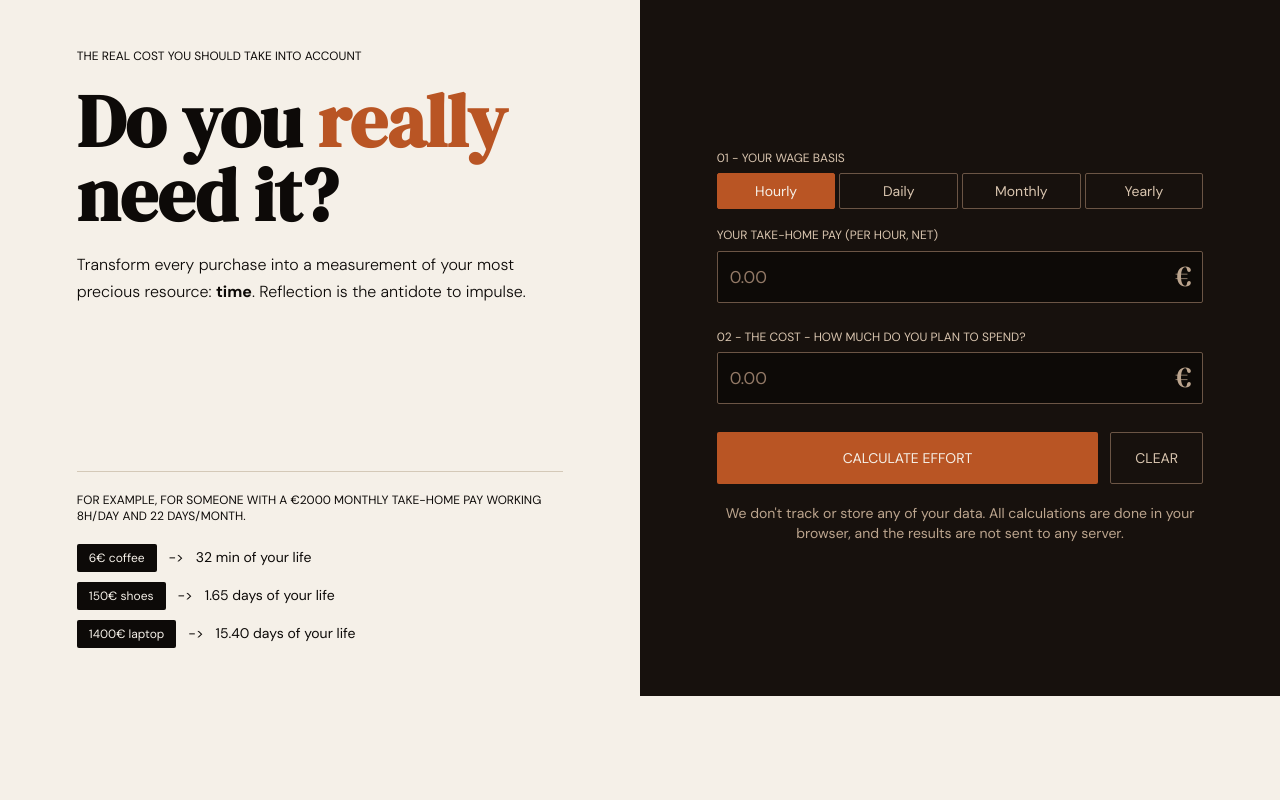
CalculatorPageContainer › shows schedule validation messages for monthly income
Click the button "Monthly". click: (1021,191)
box: [962, 173, 1081, 209]
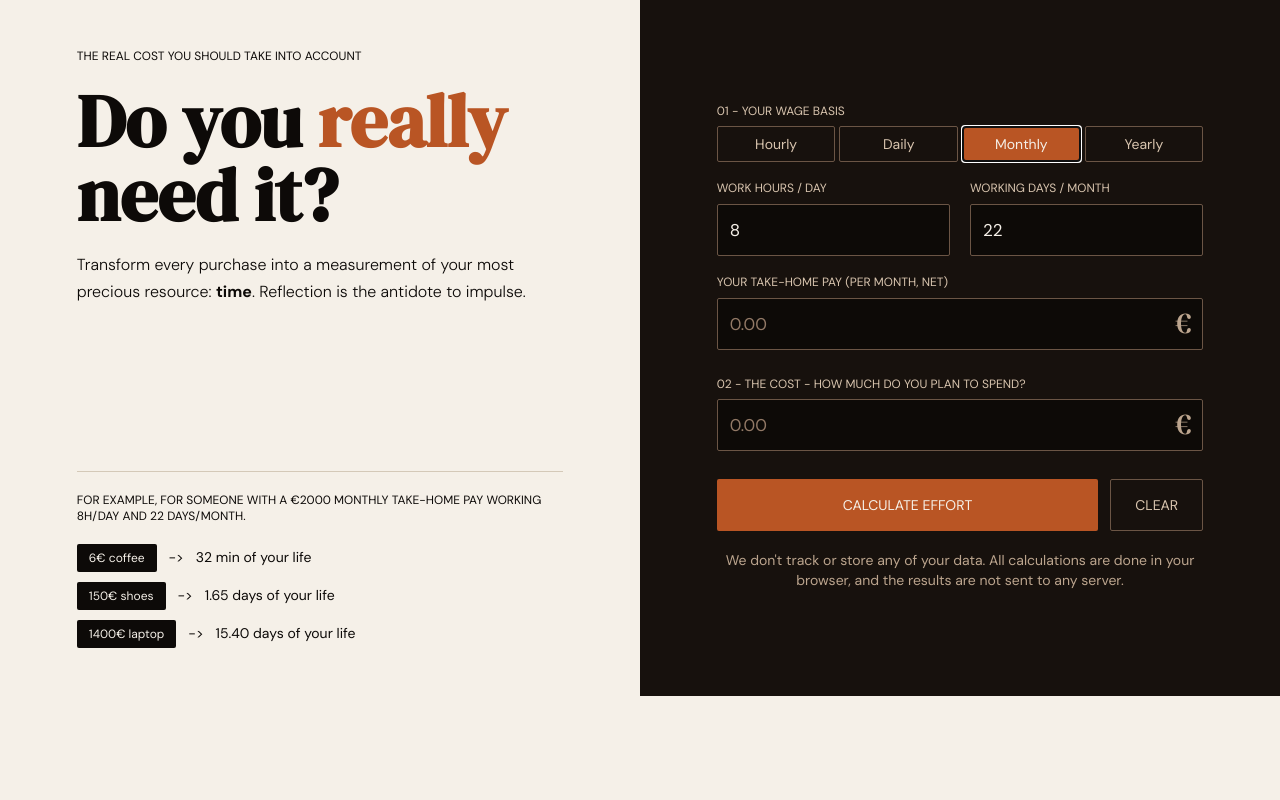
Clear the number field labelled "Work hours / day". click: (833,230)
box: [717, 204, 950, 256]
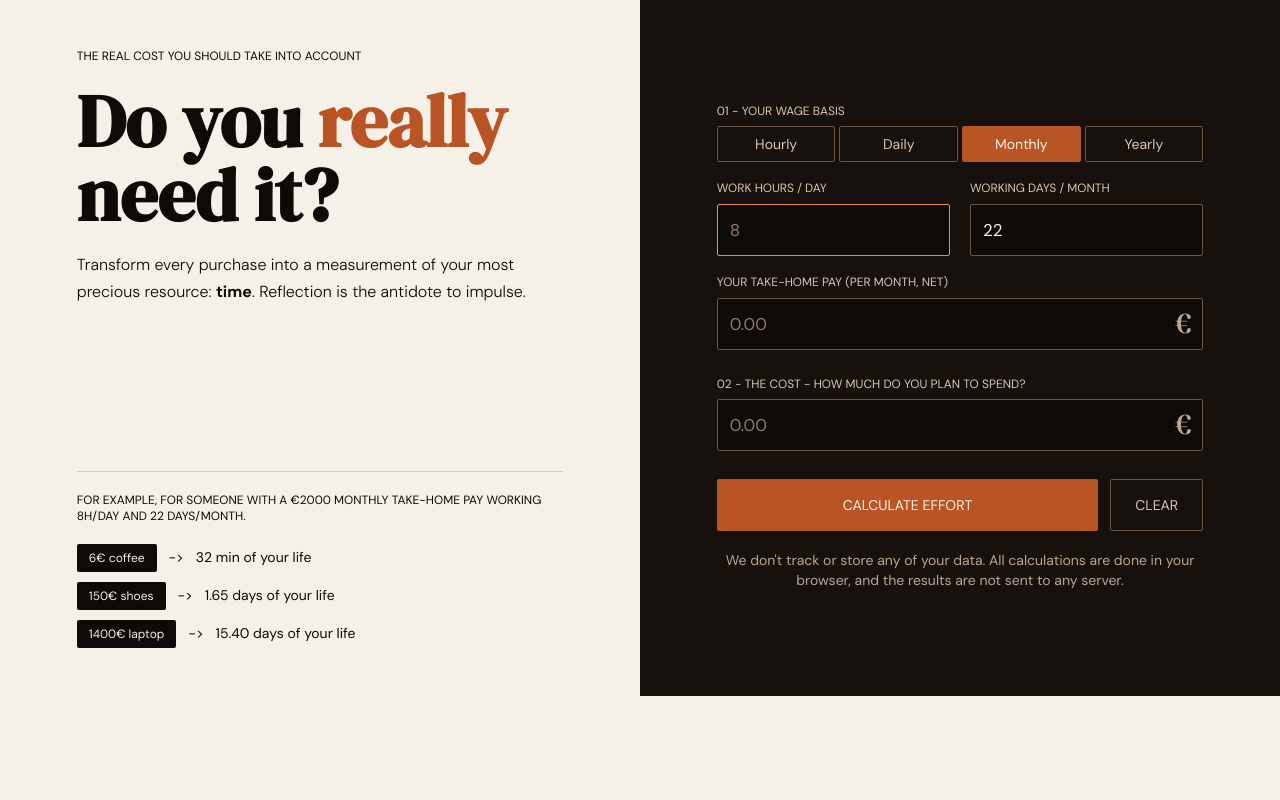
Clear the number field labelled "Working days / month". click: (1087,230)
box: [970, 204, 1203, 256]
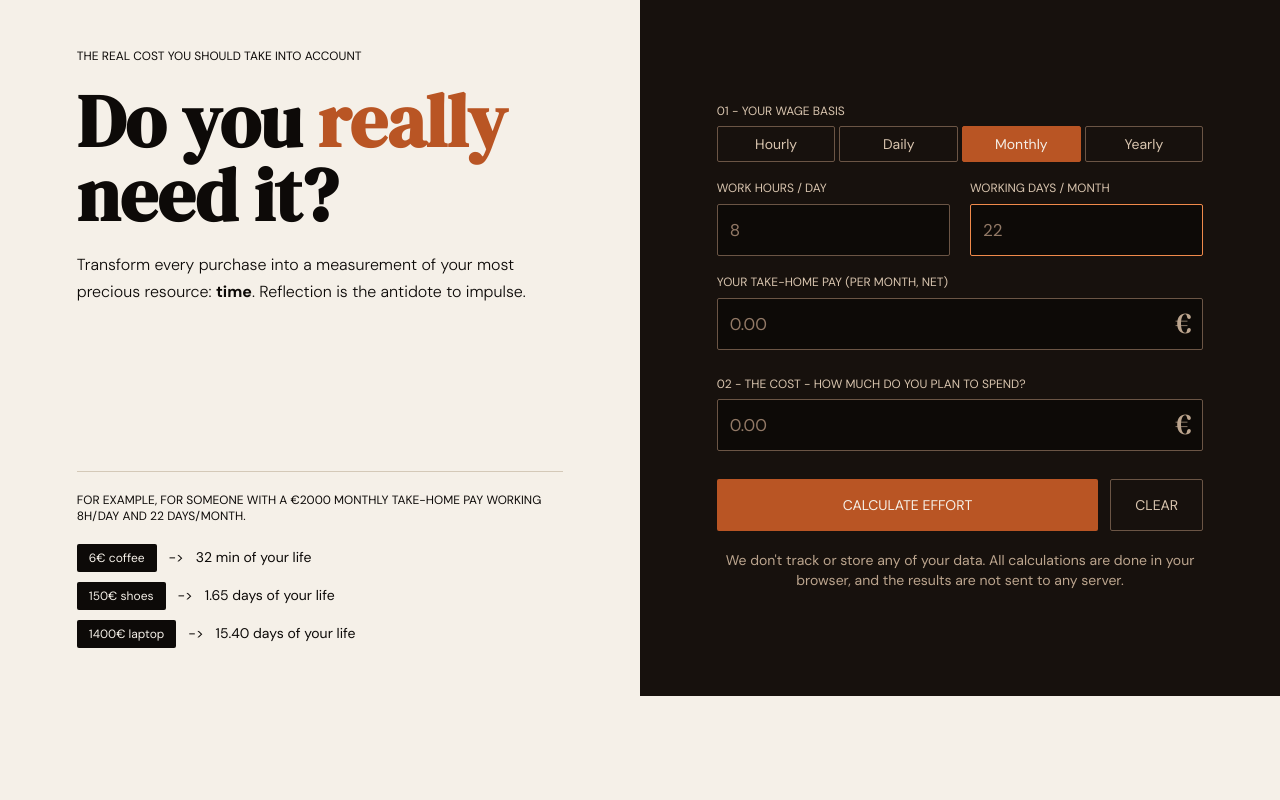
Type "1600" into the number field labelled "Your take-home pay (per month, net)". click: (960,324)
box: [717, 298, 1203, 350]
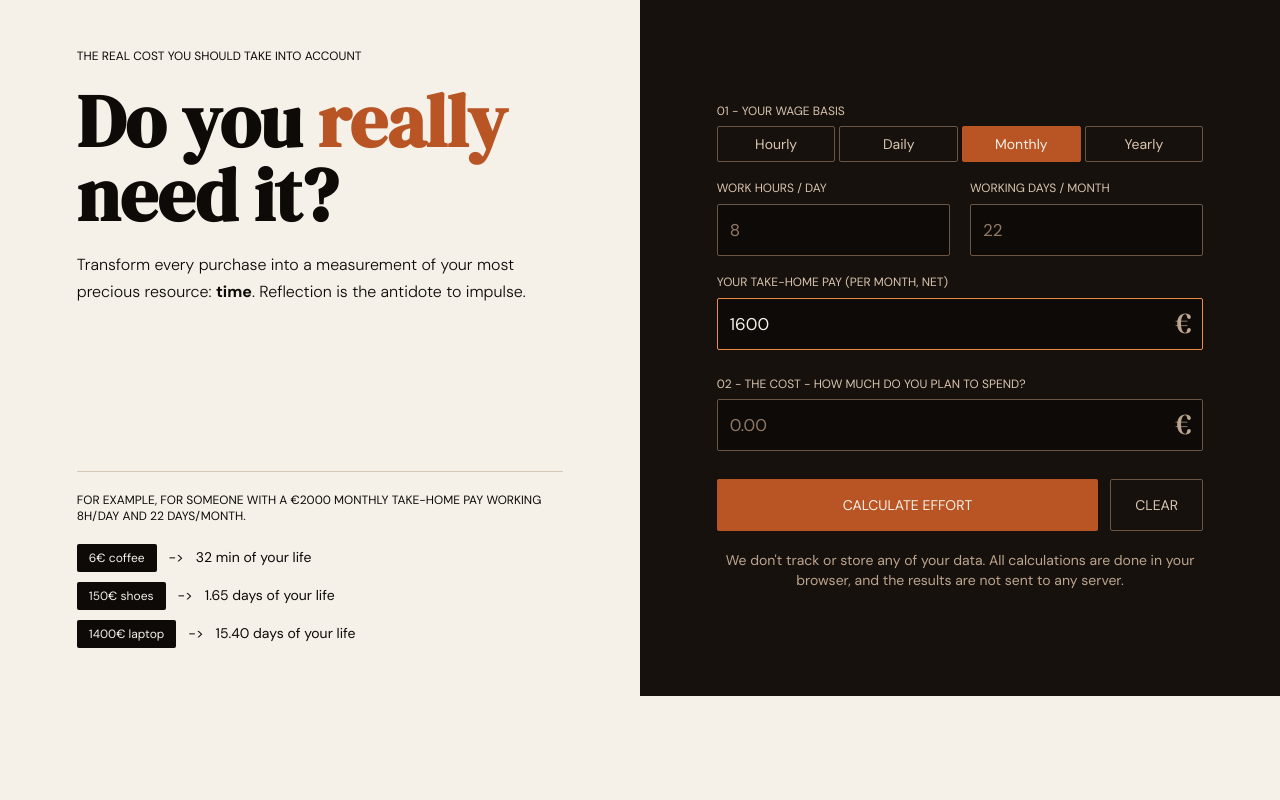
Type "160" into the number field with placeholder "0.00". click: (960,425)
box: [717, 399, 1203, 451]
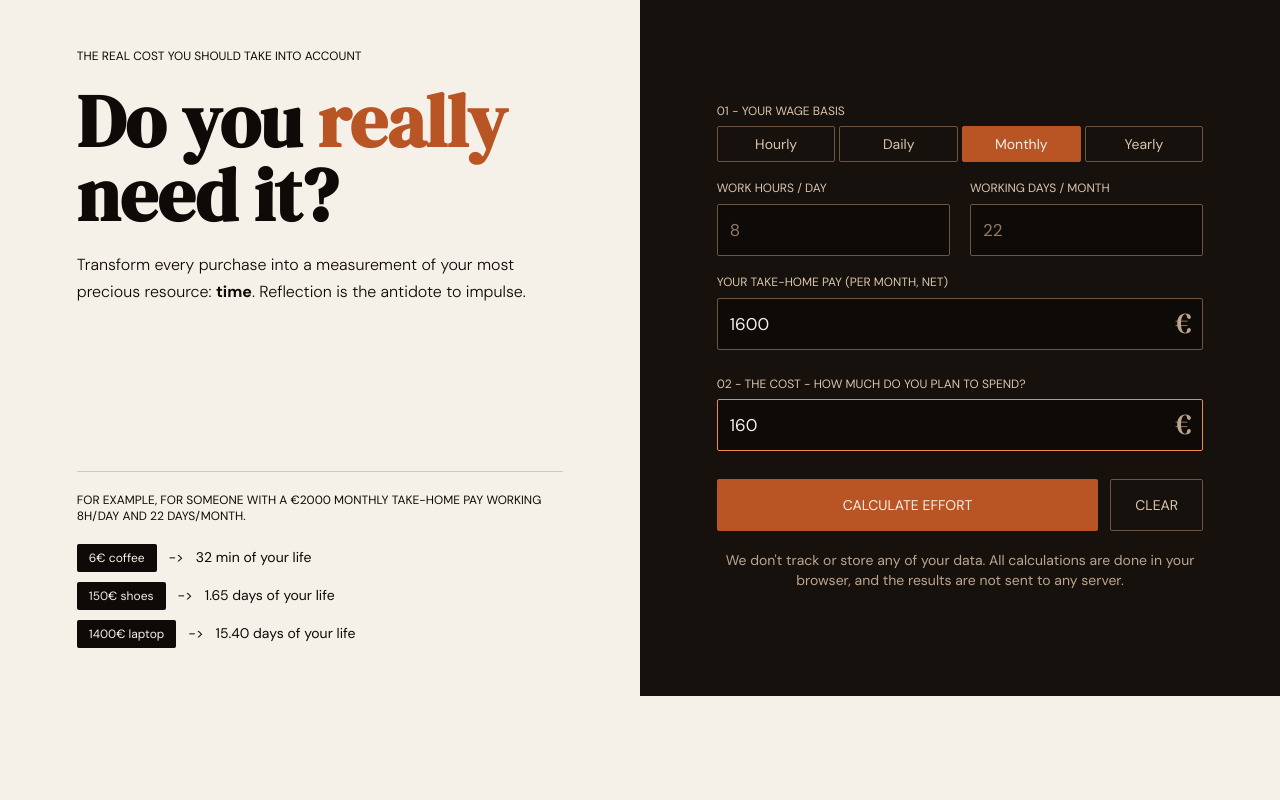
Click the button "Calculate Effort". click: (908,505)
box: [717, 479, 1098, 531]
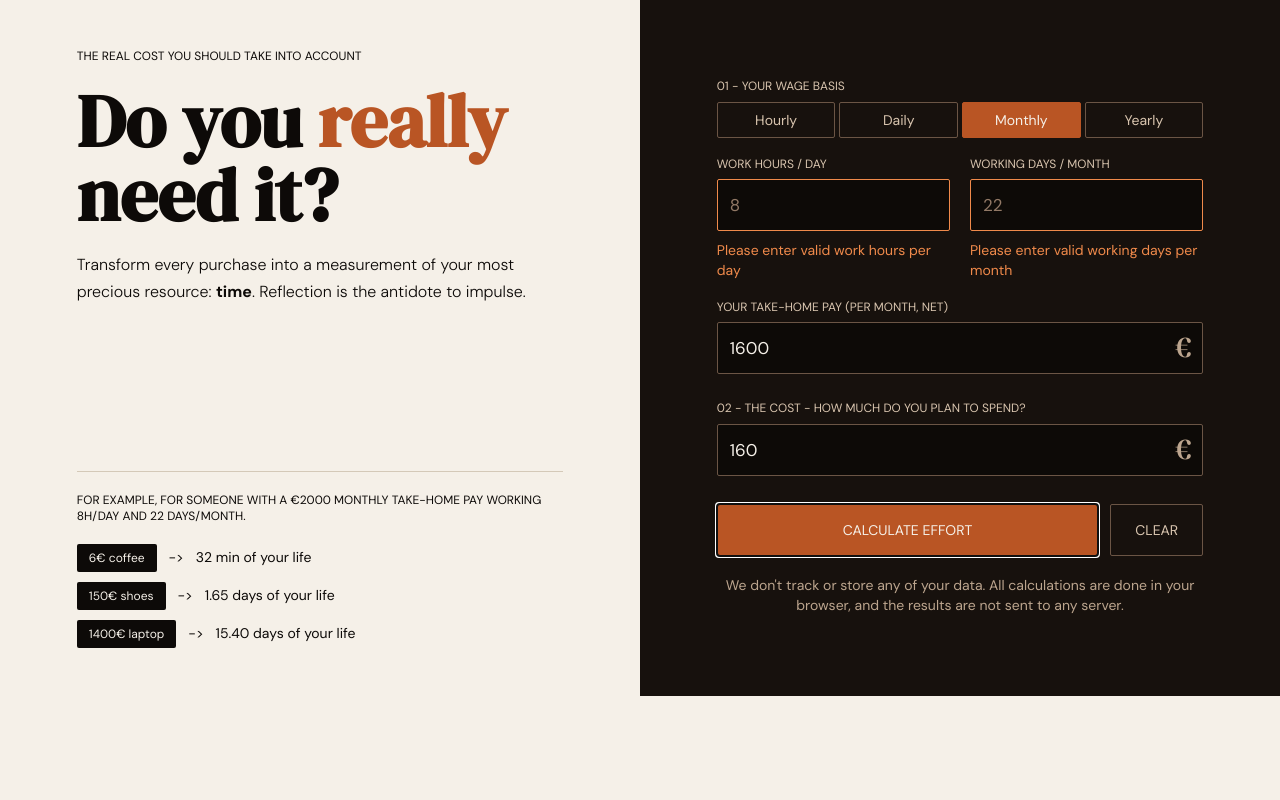
Expected: the text "Please enter valid work hours per day" is shown, [717, 241, 950, 281]
Expected: the text "Please enter valid working days per month" is shown, [970, 241, 1203, 281]
